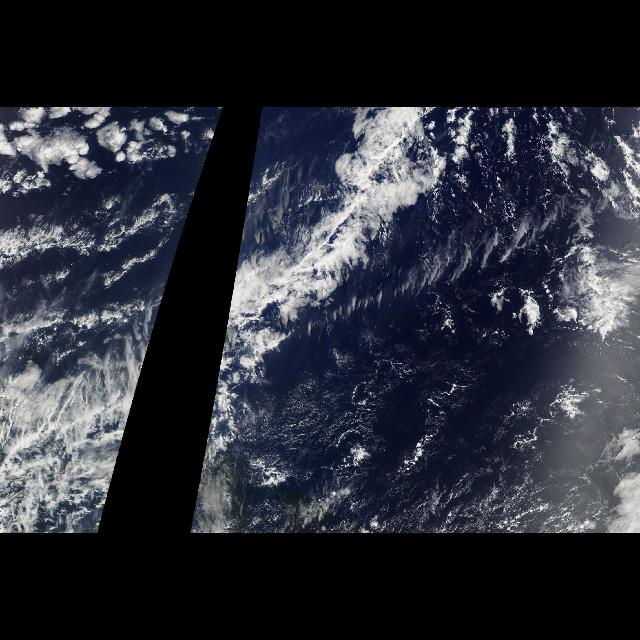Fish: (222, 114, 596, 346), (110, 114, 222, 346)
Gravel: (281, 354, 595, 526)
